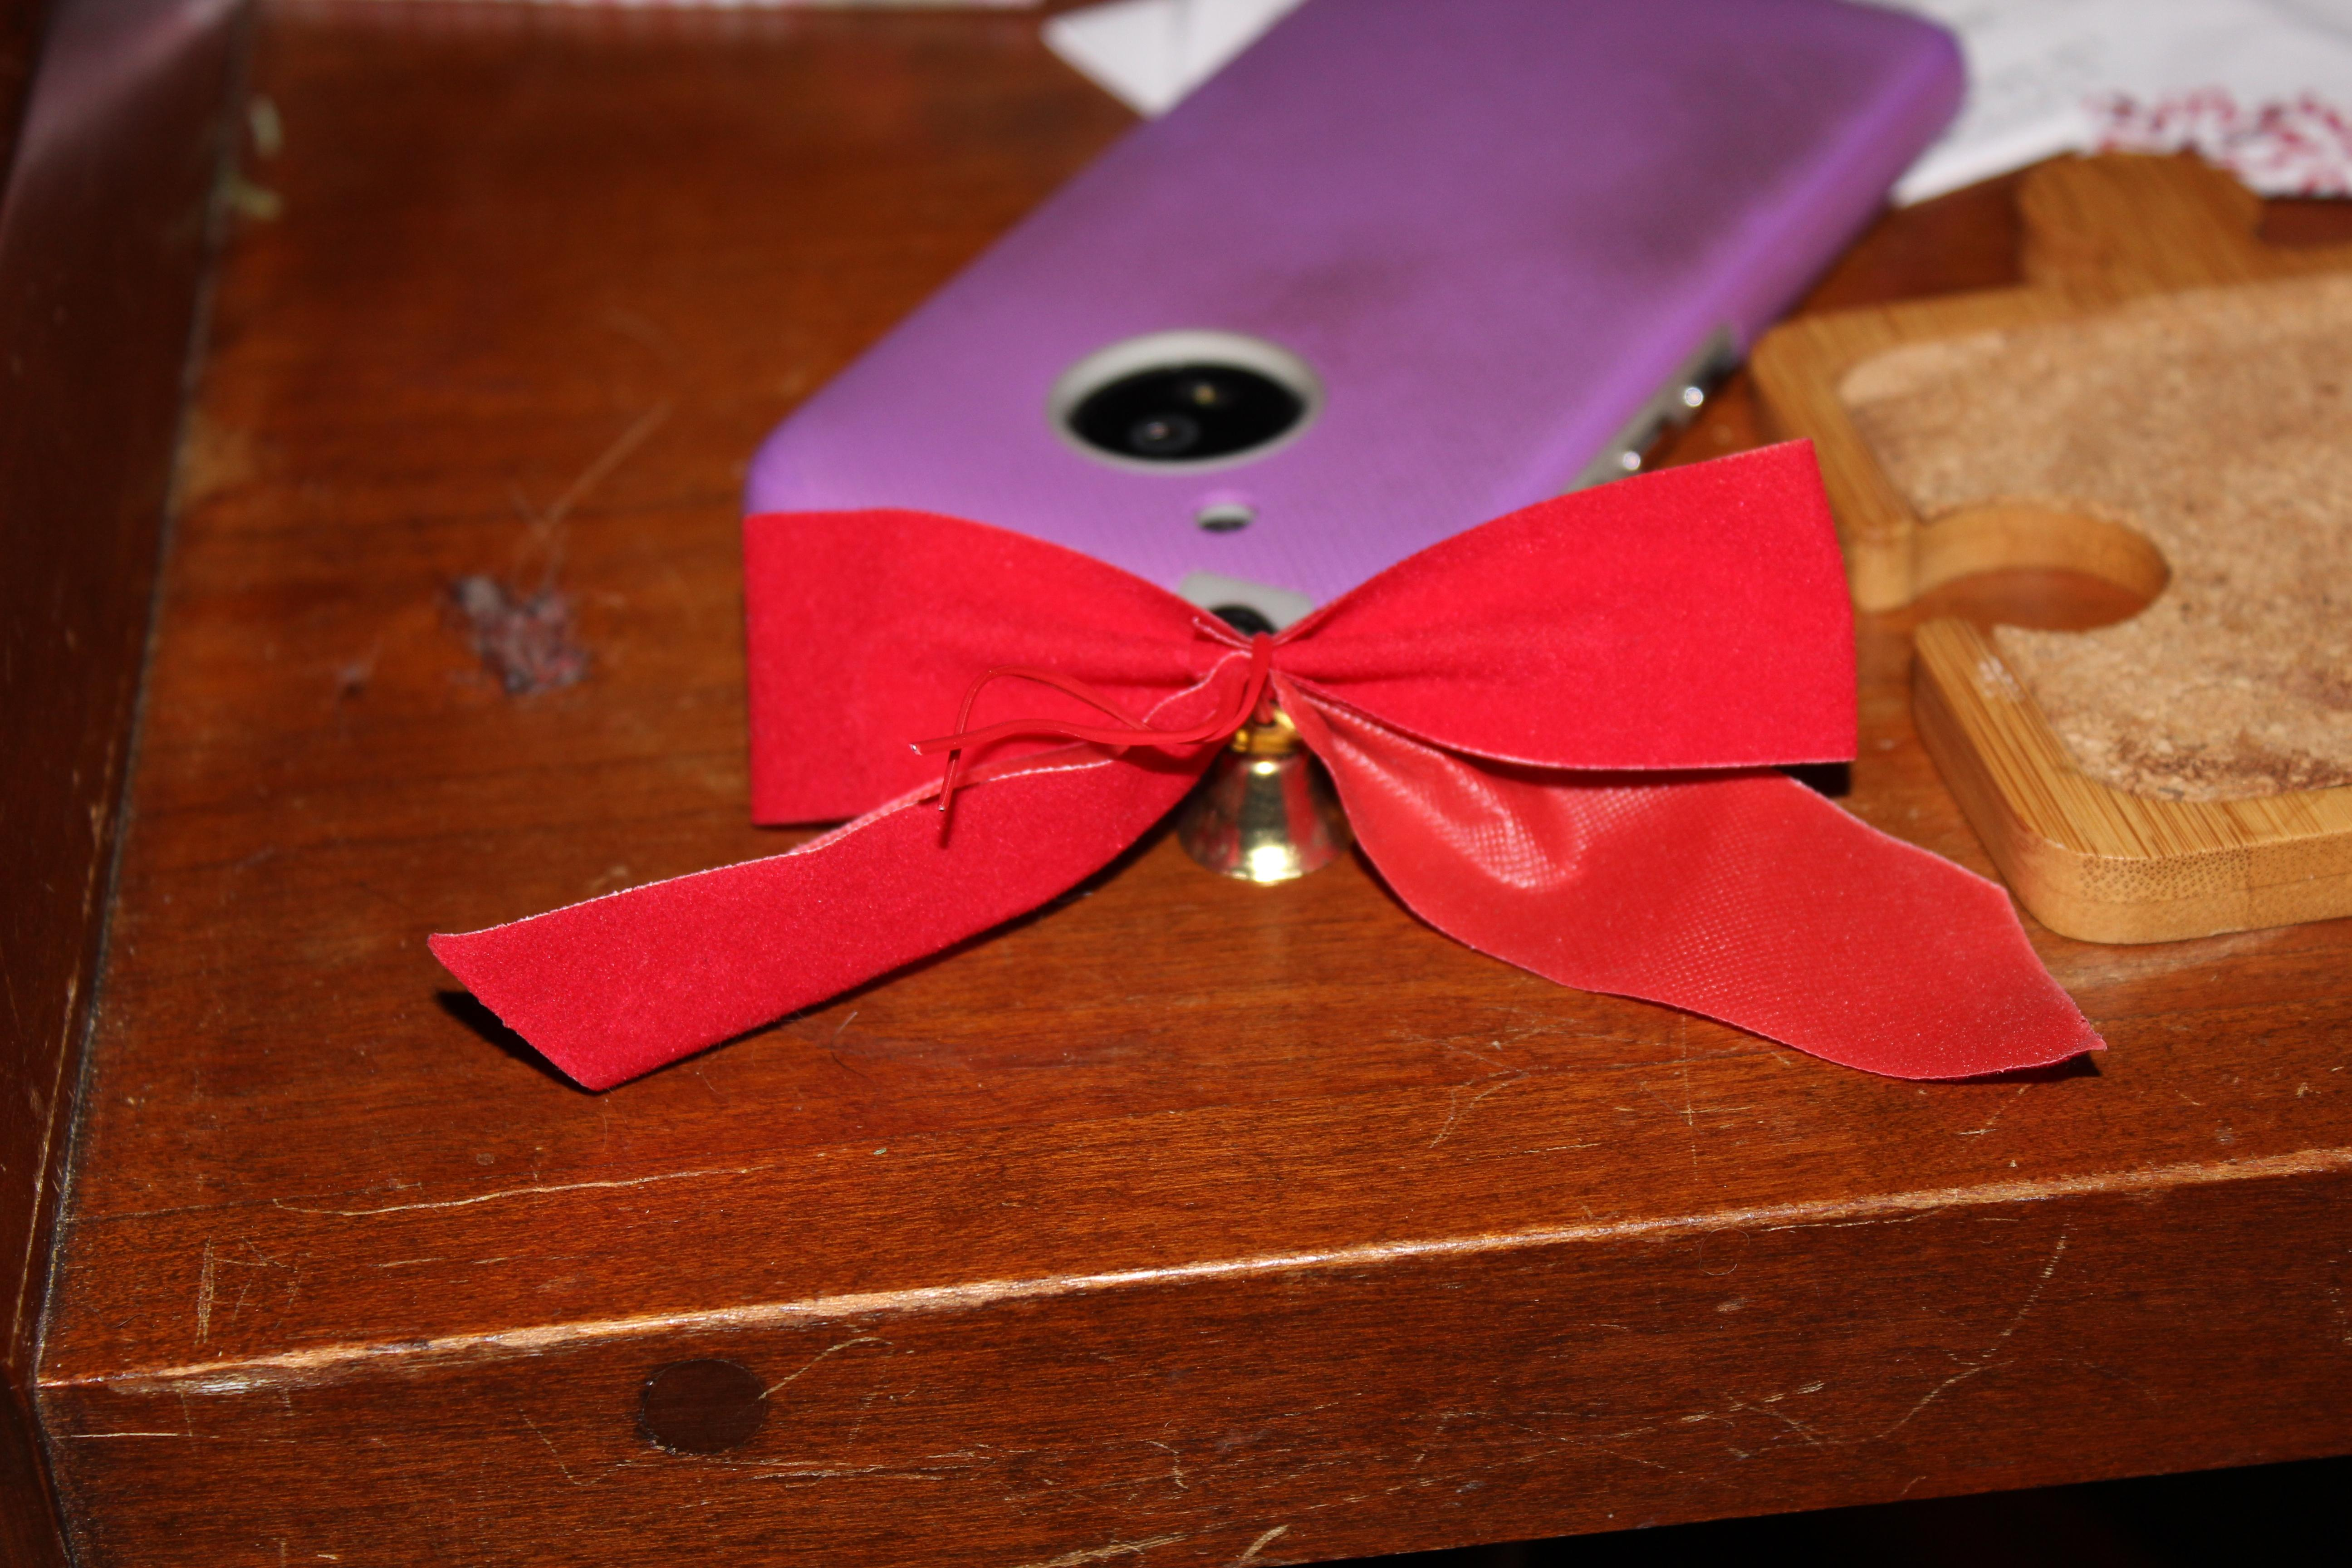redBow: (399, 415, 2147, 1111)
